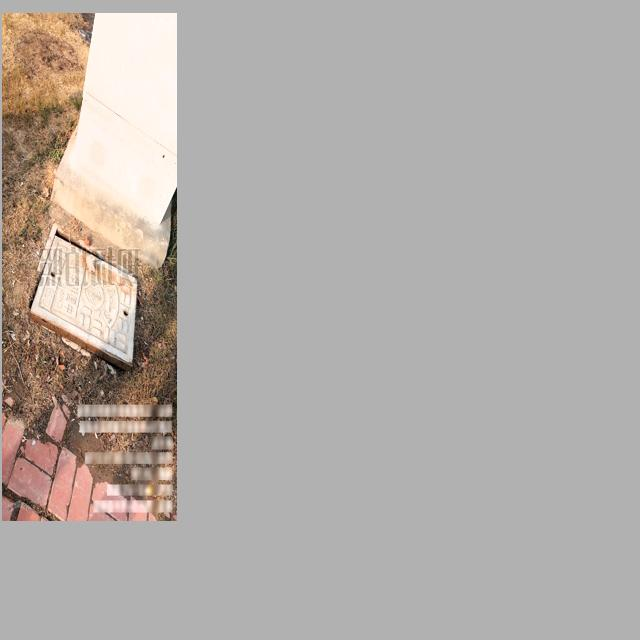uncovered: (31, 223, 138, 365)
